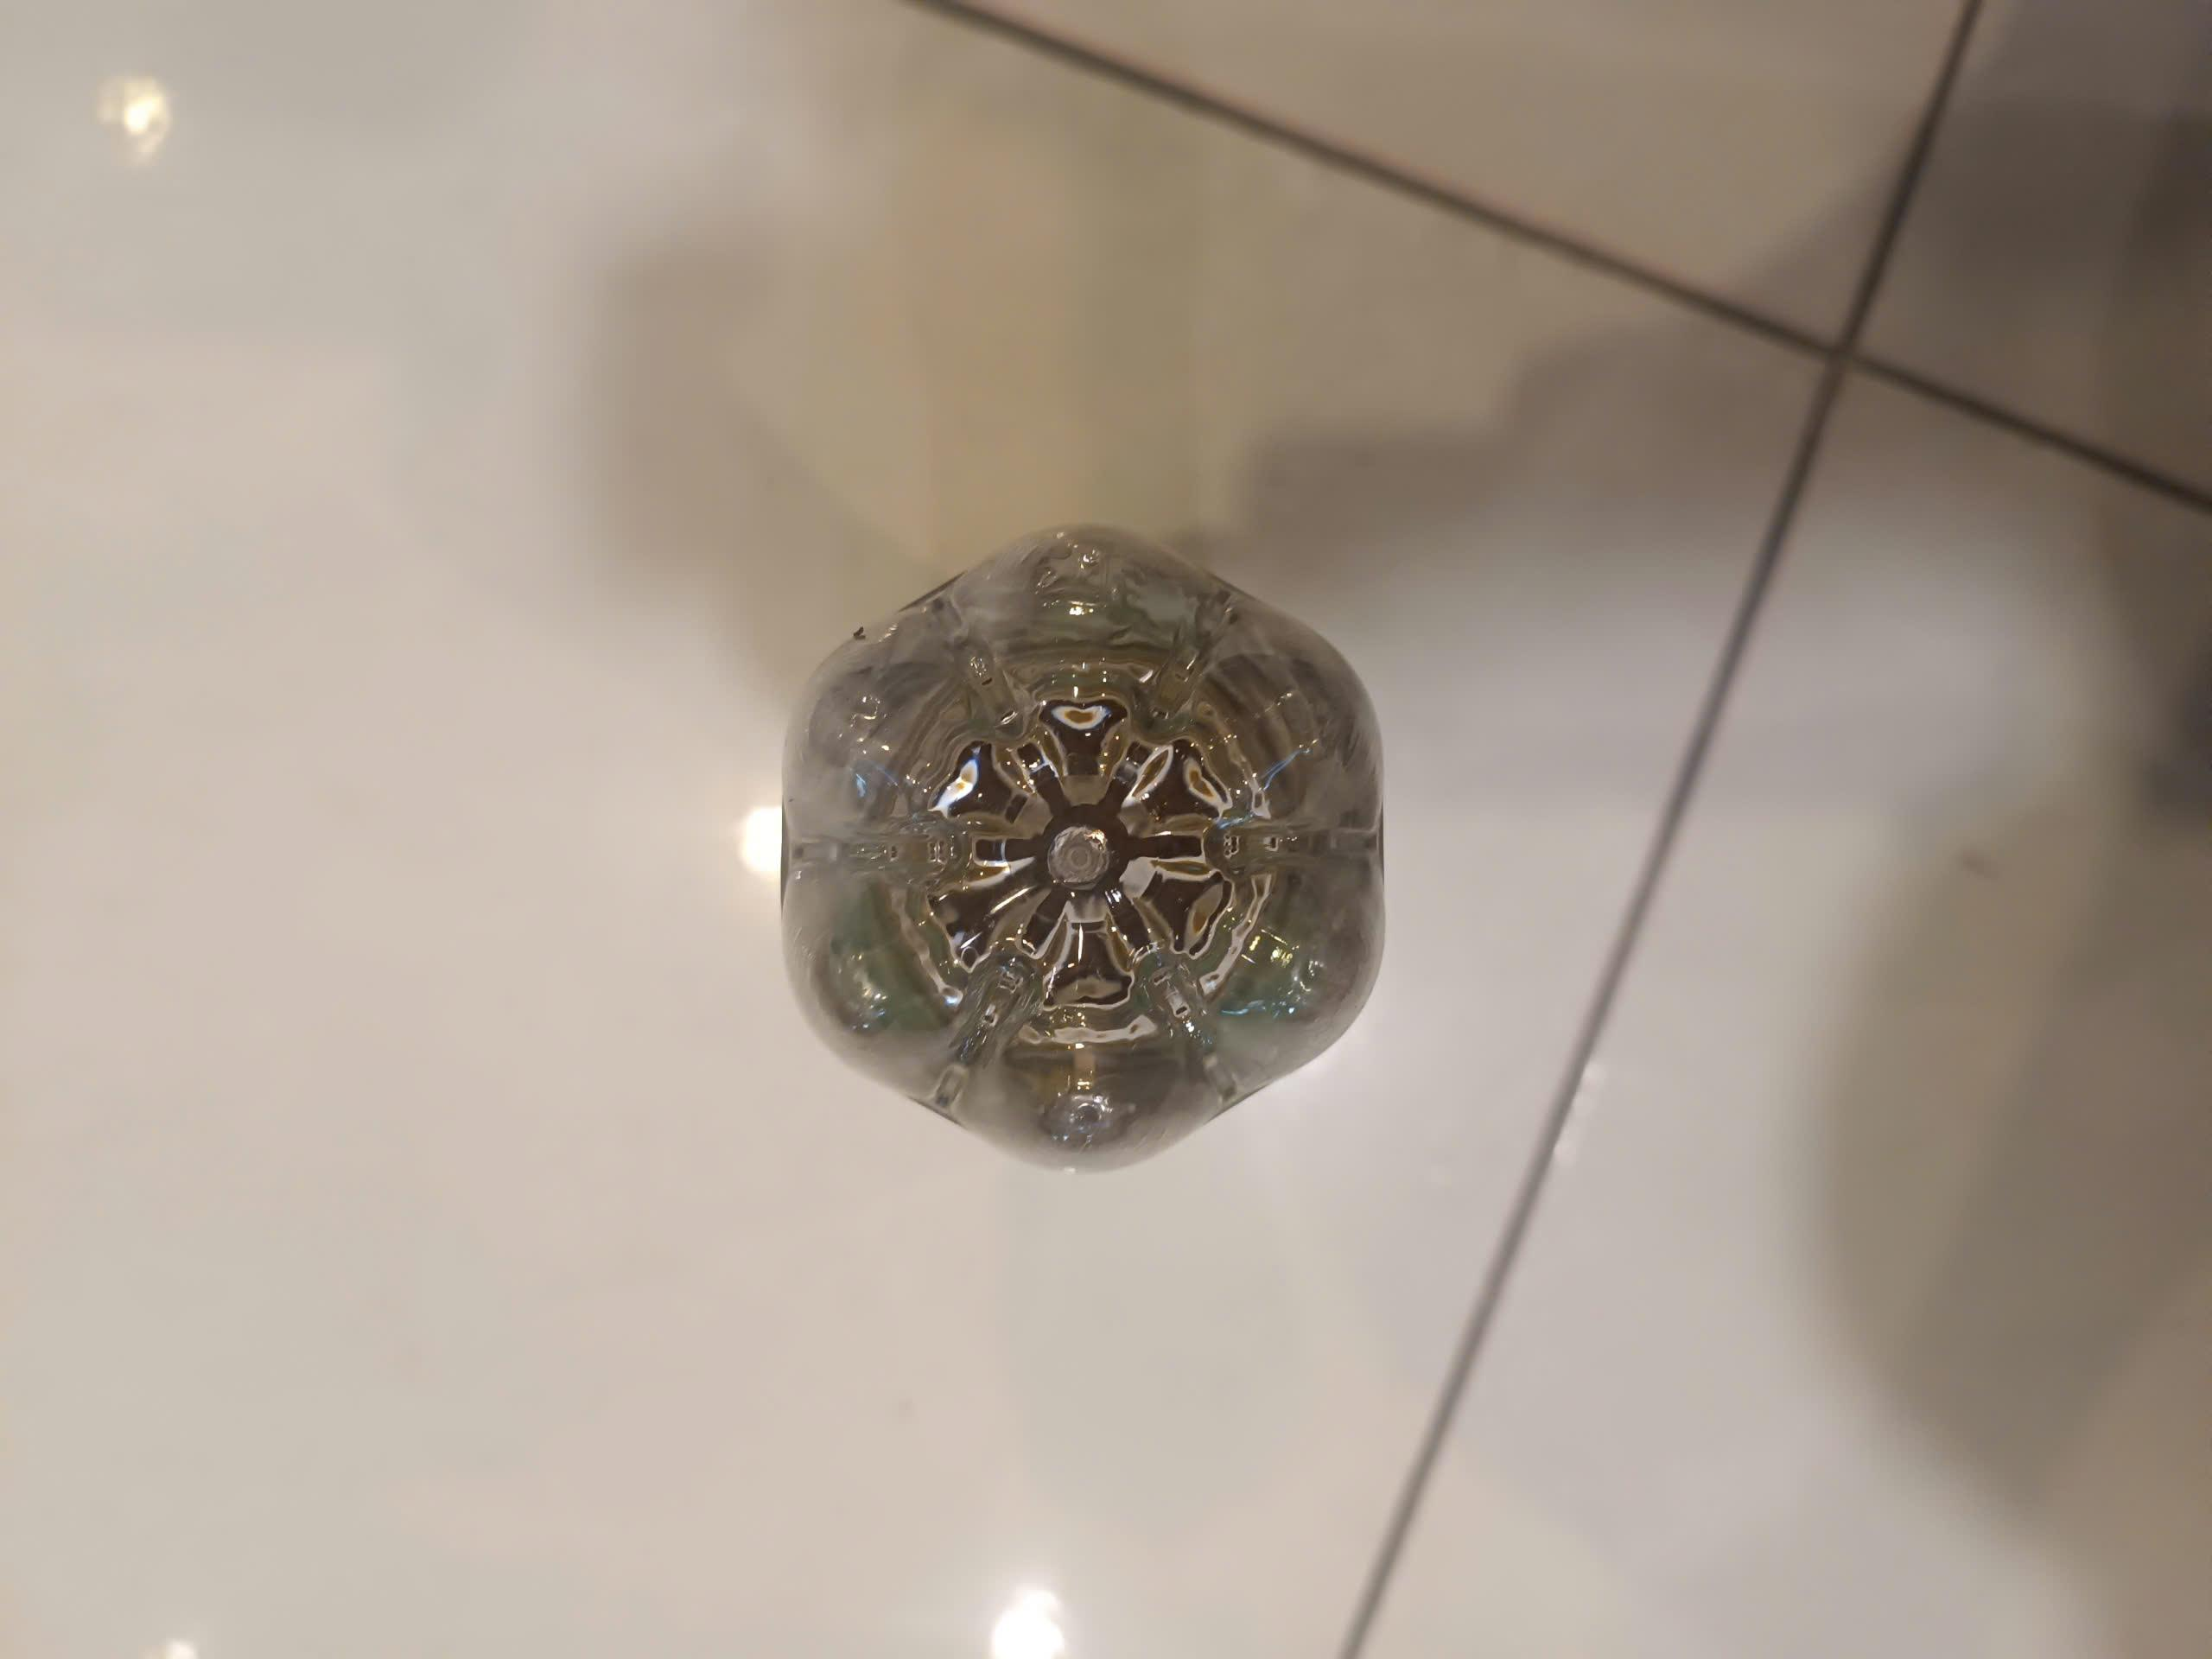Vo co: (786, 521, 1385, 1176)
